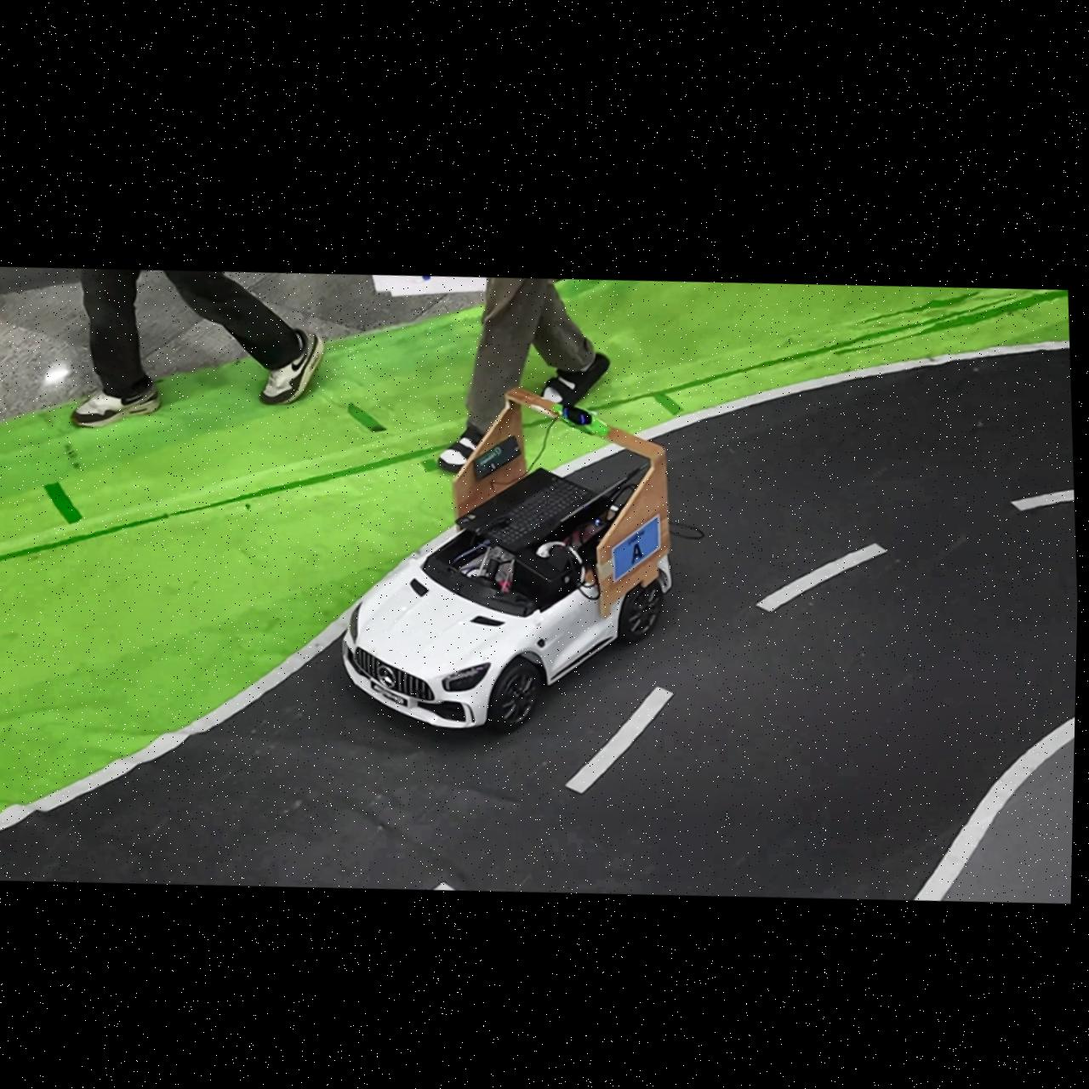broken_line: (566, 686, 673, 793), (757, 543, 886, 611), (1011, 489, 1073, 510), (434, 882, 454, 889)
